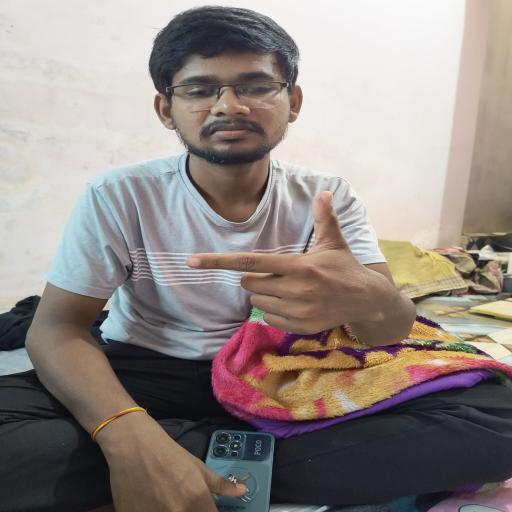OK: (169, 185, 402, 349)
